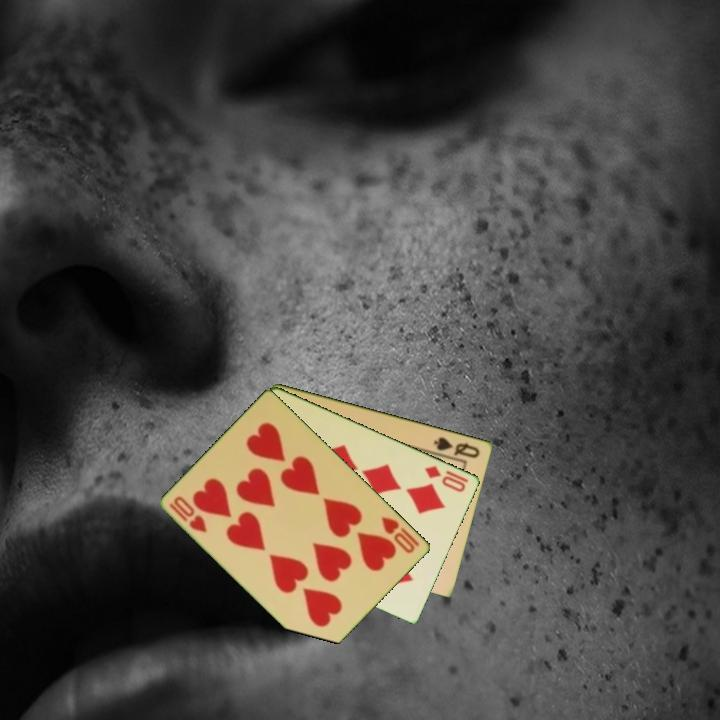10d: (422, 462, 469, 495)
10h: (378, 513, 423, 557), (166, 492, 211, 536)
Qs: (430, 433, 483, 461)
